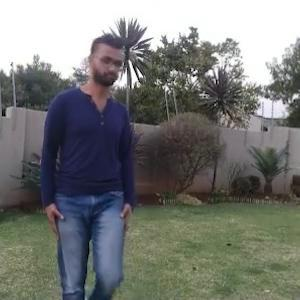follow: (39, 47, 138, 297)
